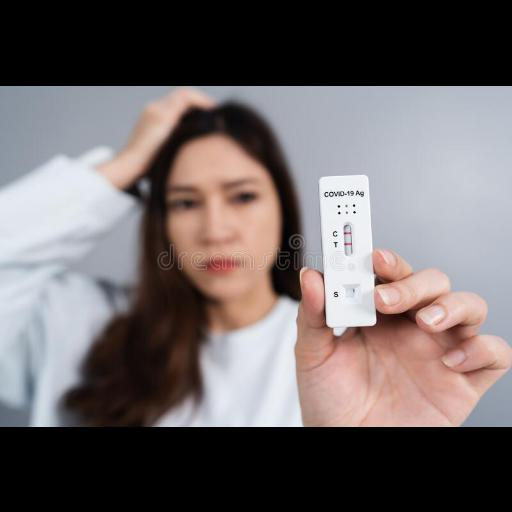Pos: (320, 174, 376, 324)
